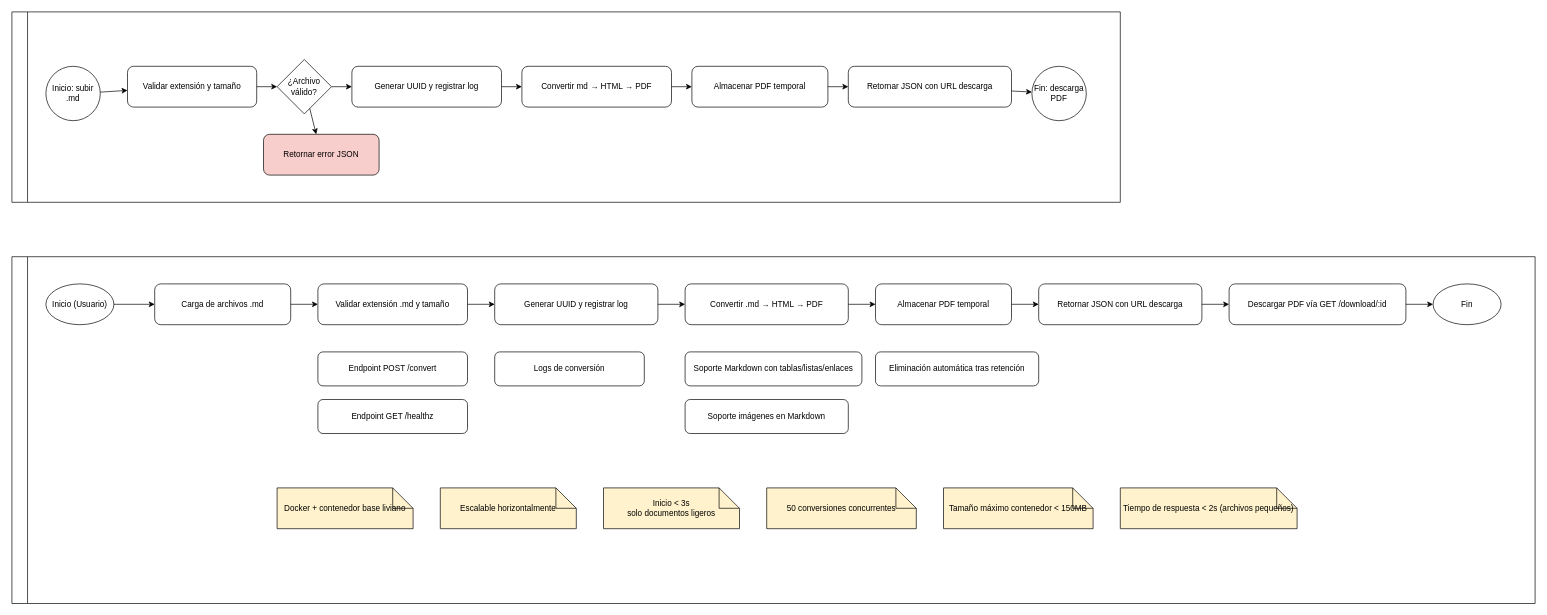
Some shapes in this 1547 by 615 pixel diagram are drawn without their labels. Each missing label, with the centre of its shape:
"detalles y pasos extra" goes at point 773,430.
"Flujo de operacion principal resumida" goes at point 565,106.
